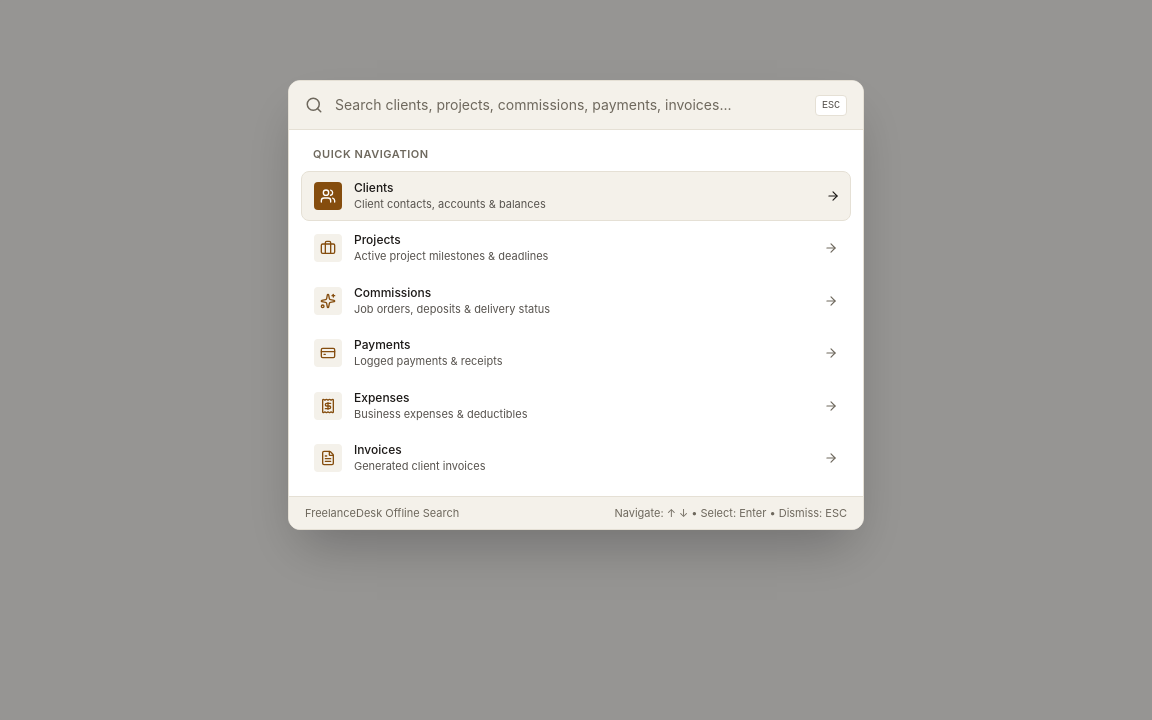
Test: GlobalSearchModal Component › performs global search when user types query
Type "Juan" into the field with placeholder "Search clients, projects" at (575, 105), box [335,81,815,129]
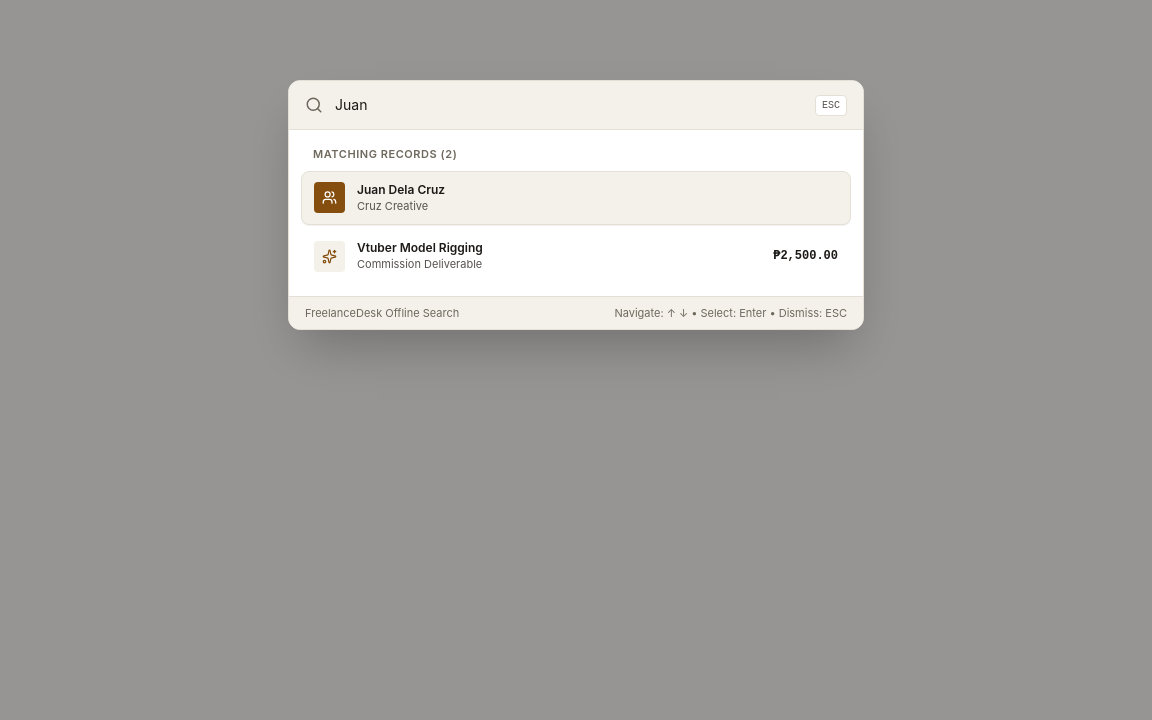
expect the text "Juan Dela Cruz" is shown: met, box [357,182,445,198]
expect the text "Vtuber Model Rigging" is shown: met, box [357,240,483,256]
